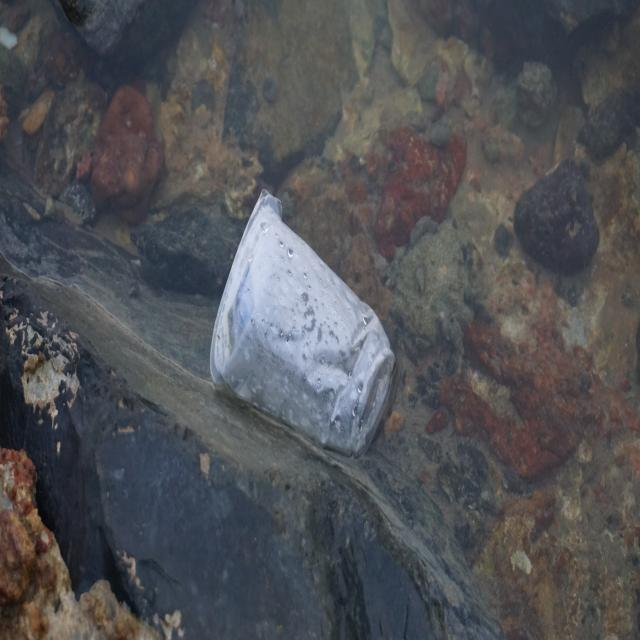Bungkus Minuman: (209, 182, 397, 474)
